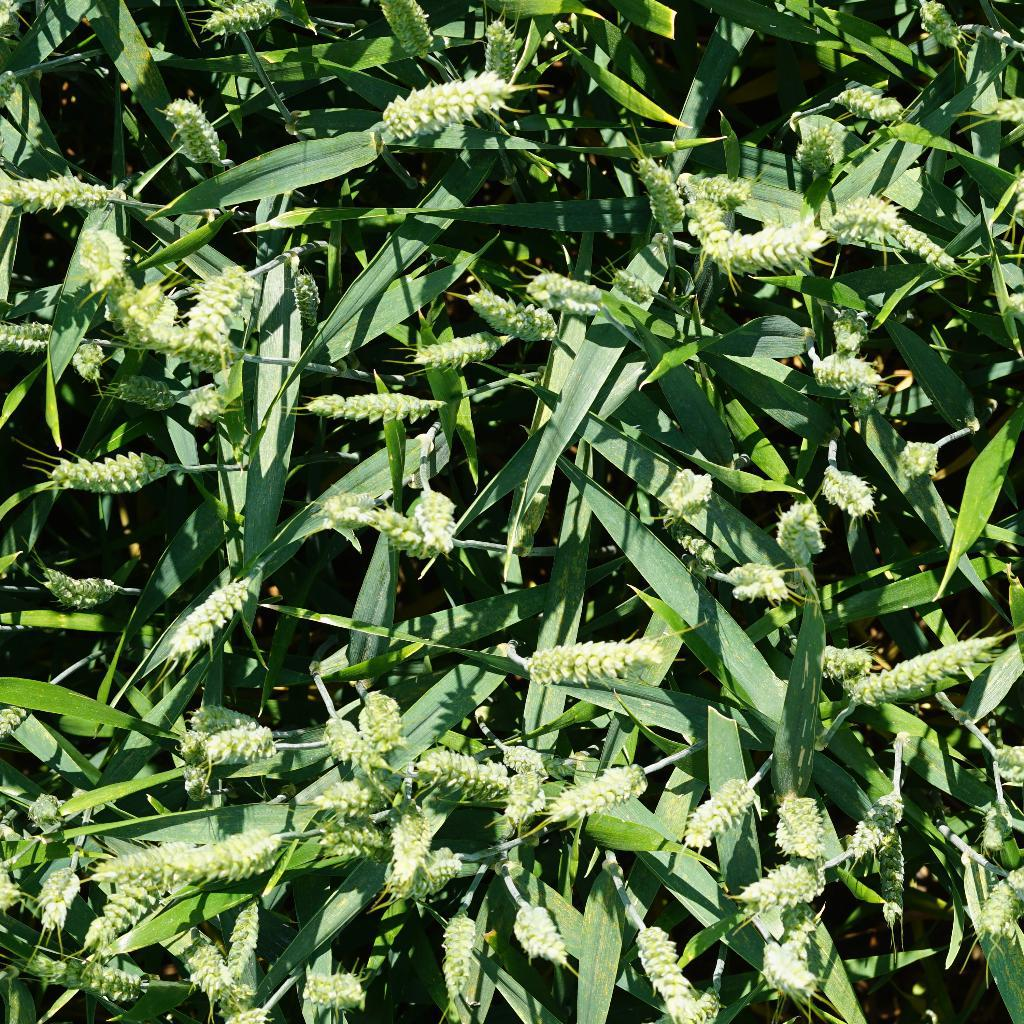0-0: (819, 608, 994, 698), (501, 615, 673, 691), (37, 438, 194, 501), (522, 750, 657, 823), (372, 67, 512, 131), (449, 286, 570, 357), (164, 572, 257, 654), (178, 261, 269, 344), (620, 142, 690, 249), (295, 384, 457, 429), (717, 208, 825, 275), (92, 879, 185, 952), (515, 254, 612, 322), (399, 744, 512, 802), (507, 875, 578, 967), (722, 851, 844, 904), (354, 500, 461, 560), (157, 90, 236, 171), (628, 922, 696, 1016), (283, 963, 389, 1023), (0, 167, 138, 212), (36, 946, 142, 1004), (832, 783, 918, 854), (772, 780, 848, 859), (171, 721, 283, 774), (430, 900, 482, 1013), (755, 922, 837, 993), (884, 206, 965, 276), (864, 818, 912, 933), (346, 680, 413, 761), (684, 768, 752, 844), (354, 0, 440, 59), (403, 322, 515, 367), (709, 550, 804, 602), (813, 180, 896, 239), (303, 807, 376, 873), (770, 498, 836, 568), (172, 923, 234, 996), (664, 154, 751, 206), (33, 563, 129, 610), (409, 473, 463, 556), (791, 632, 878, 683), (178, 834, 286, 875), (403, 833, 475, 894), (967, 869, 1024, 946), (804, 350, 890, 400), (811, 456, 879, 518), (299, 766, 393, 810), (186, 701, 277, 746), (307, 487, 392, 535), (318, 707, 377, 776), (94, 838, 194, 878), (223, 892, 266, 985), (648, 980, 737, 1024), (192, 981, 283, 1024), (655, 504, 718, 566), (605, 260, 677, 313), (34, 854, 82, 933), (791, 118, 852, 179), (381, 817, 432, 889), (111, 366, 182, 417), (908, 0, 974, 54), (661, 466, 722, 524), (823, 81, 907, 123), (889, 426, 944, 486), (169, 761, 235, 810), (970, 791, 1017, 859), (120, 288, 171, 350), (75, 230, 129, 288), (474, 15, 530, 70), (198, 0, 285, 34), (825, 302, 877, 358), (501, 729, 561, 777), (22, 800, 85, 844), (288, 271, 329, 331), (178, 384, 229, 429), (989, 856, 1024, 920), (0, 309, 45, 355), (68, 333, 107, 384), (991, 729, 1024, 785), (847, 378, 882, 422)
